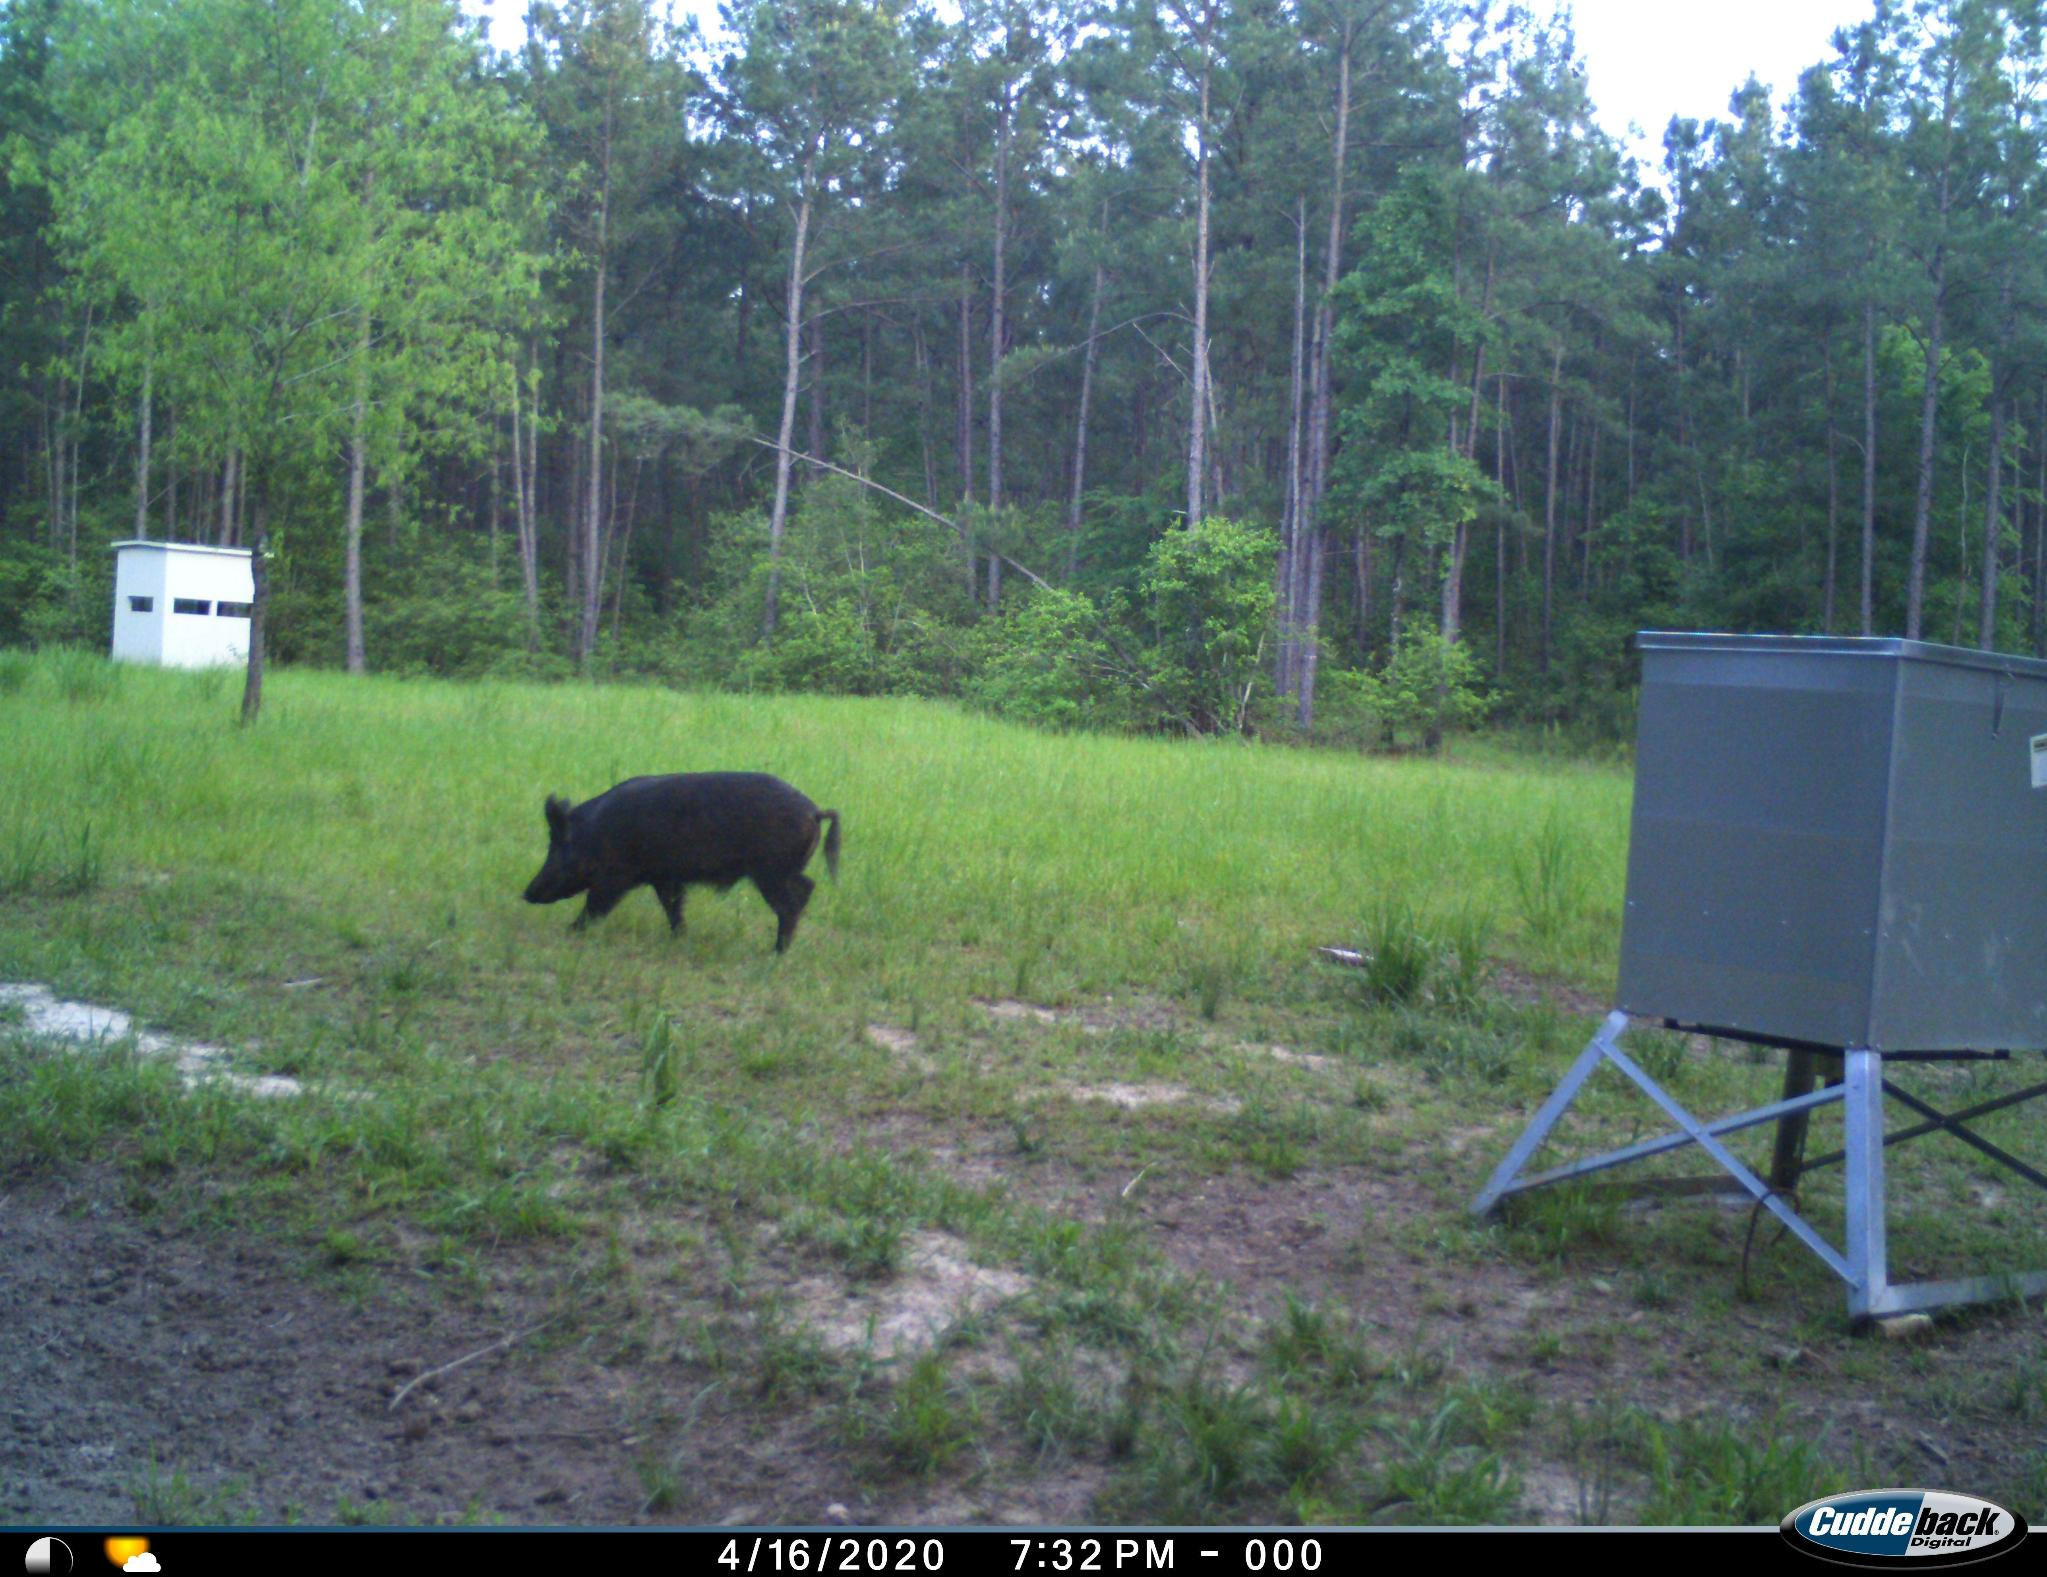Hog: (503, 759, 856, 982)
